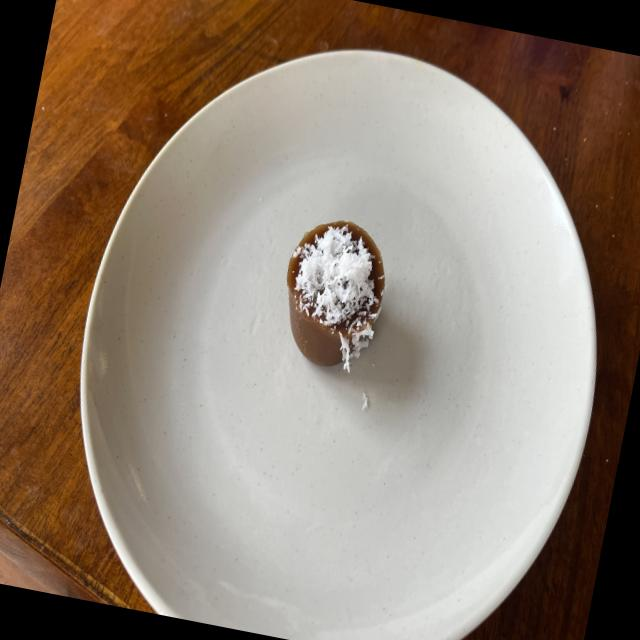Kuih lompang: (287, 220, 385, 371)
